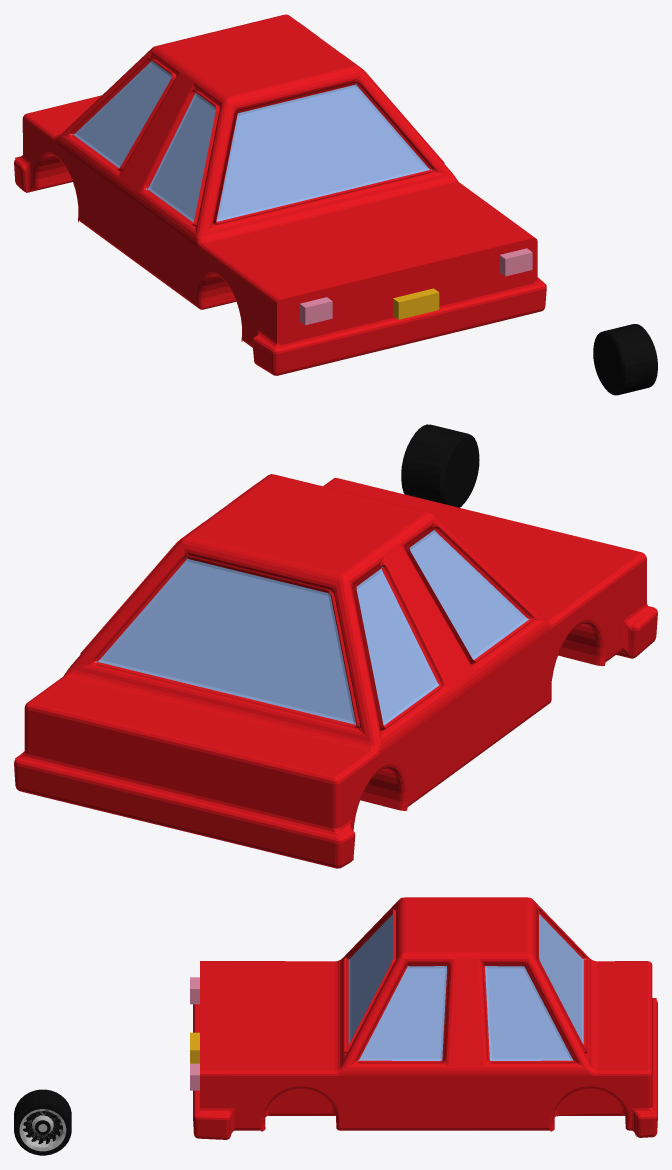
Rendered from car.fbx.
3 views of the same model, one above another, from view 1: azimuth 30°, elevation 25°; view 2: azimuth 150°, elevation 25°; view 3: azimuth 270°, elevation 25° (orthographic). The views are drawn at different scales.
Visible parts, largest first — view 1: Cube, Cylinder.001, Cube.001, Cube.002; view 2: Cube, Cylinder.001; view 3: Cube, Cylinder.001, Cube.001.
Part boxes in pixels (bbox=[...]): Cube: bbox=[14, 14, 546, 375]; Cylinder.001: bbox=[593, 324, 657, 395]; Cube.001: bbox=[299, 248, 532, 325]; Cube.002: bbox=[393, 288, 439, 319]; Cube: bbox=[14, 474, 657, 868]; Cylinder.001: bbox=[401, 424, 479, 507]; Cube: bbox=[193, 897, 657, 1139]; Cylinder.001: bbox=[14, 1089, 71, 1155]; Cube.001: bbox=[190, 977, 199, 1090].
Size of the model in its own units: 747 by 472 by 1642.
